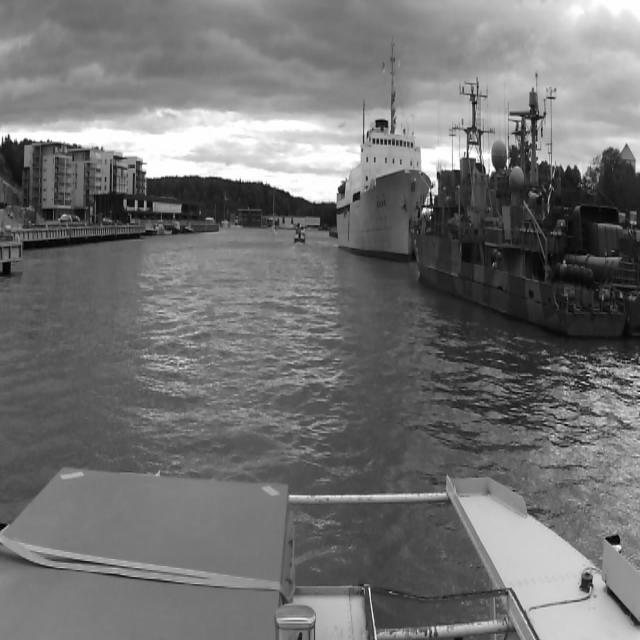ship: (411, 67, 634, 342), (269, 189, 279, 239), (157, 209, 173, 235), (291, 220, 307, 246), (170, 212, 182, 236), (184, 220, 196, 234)
